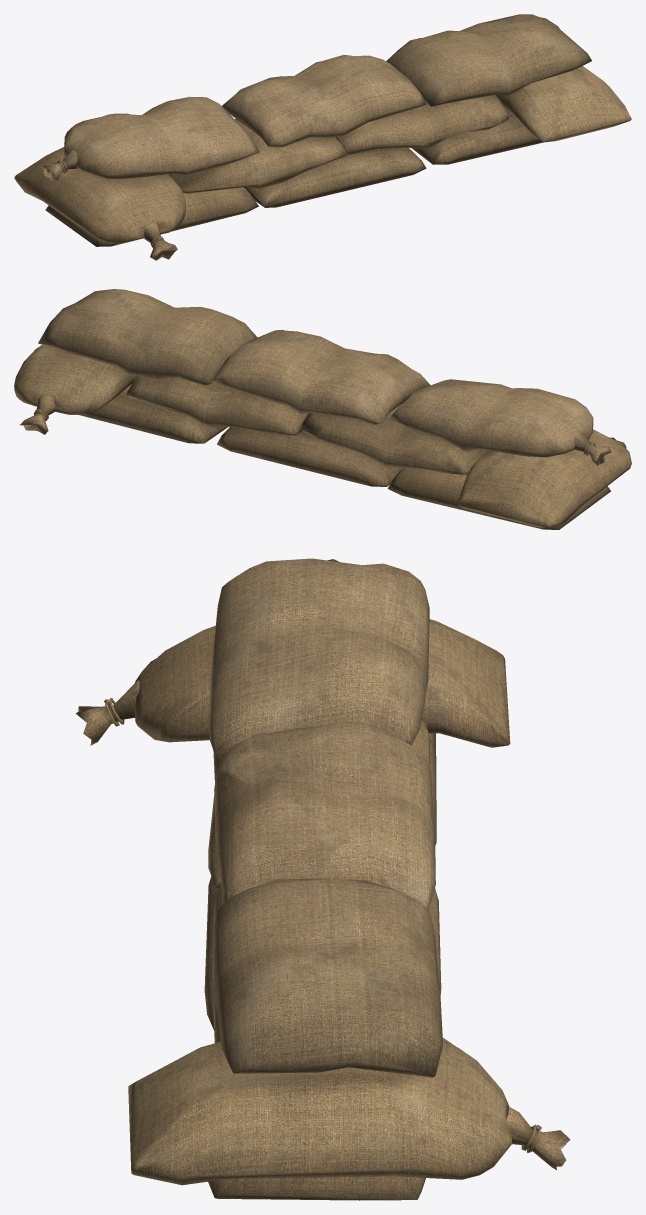
The model's file is sandbags.glb.
3 views of the same model, one above another, from view 1: azimuth 30°, elevation 25°; view 2: azimuth 150°, elevation 25°; view 3: azimuth 270°, elevation 25° (orthographic). The views are drawn at different scales.
Visible parts, largest first — view 1: sandbags_bags; view 2: sandbags_bags; view 3: sandbags_bags.
Part boxes in pixels (x1,y1,x2,y2): sandbags_bags: [14, 14, 631, 260]; sandbags_bags: [14, 289, 631, 529]; sandbags_bags: [76, 558, 570, 1200].
Bounding box in the file's own units: 1.94 × 0.3419 × 0.7687.
Materials: 2 (1 with a texture image).
